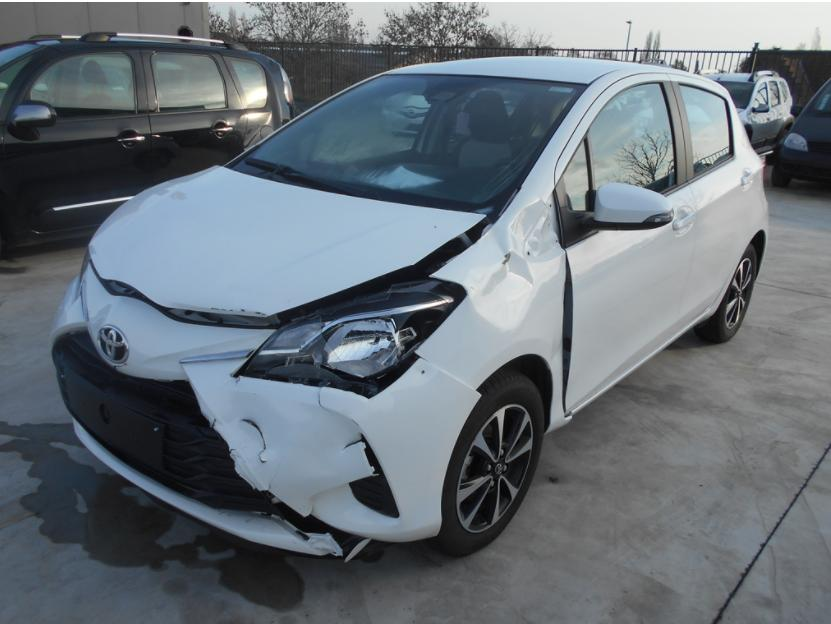Back-door: (668, 75, 762, 329)
Back-wheel: (695, 245, 756, 341)
Back-window: (679, 84, 730, 175)
Fender: (415, 190, 570, 433)
Front-bumper: (50, 264, 481, 564)
Front-door: (555, 73, 696, 413)
Front-wheel: (438, 368, 544, 553)
Front-window: (555, 85, 675, 213)
Grille: (54, 331, 346, 535)
Headlight: (239, 282, 463, 395)
Hood: (89, 166, 483, 314)
License-plate: (70, 373, 162, 468)
Mirror: (559, 183, 671, 244)
Quarter-panel: (740, 151, 769, 239)
Rocker-panel: (565, 258, 739, 414)
Roof: (386, 56, 726, 89)
Windshield: (227, 75, 585, 215)
